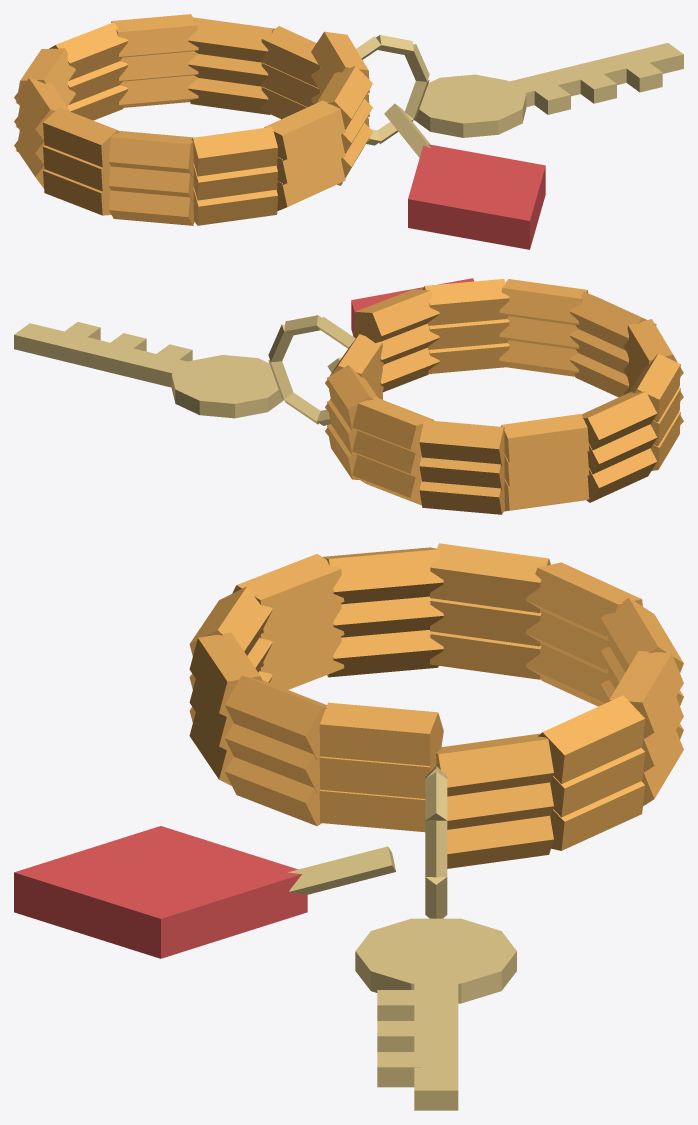
The model's file is HJ_PulseraPuertas.fbx.
The picture shows the model from 3 angles, top to bottom: view 1: azimuth 30°, elevation 25°; view 2: azimuth 150°, elevation 25°; view 3: azimuth 270°, elevation 25°; orthographic projection. The views are drawn at different scales.
Visible parts, largest first — view 1: HJ_PulseraPuertas; view 2: HJ_PulseraPuertas; view 3: HJ_PulseraPuertas.
Part boxes in pixels (x1,y1,x2,y2): HJ_PulseraPuertas: [14, 14, 683, 249]; HJ_PulseraPuertas: [14, 278, 683, 514]; HJ_PulseraPuertas: [14, 543, 683, 1110].
Size of the model in its own units: 0.2777 by 0.0522 by 0.1825.
